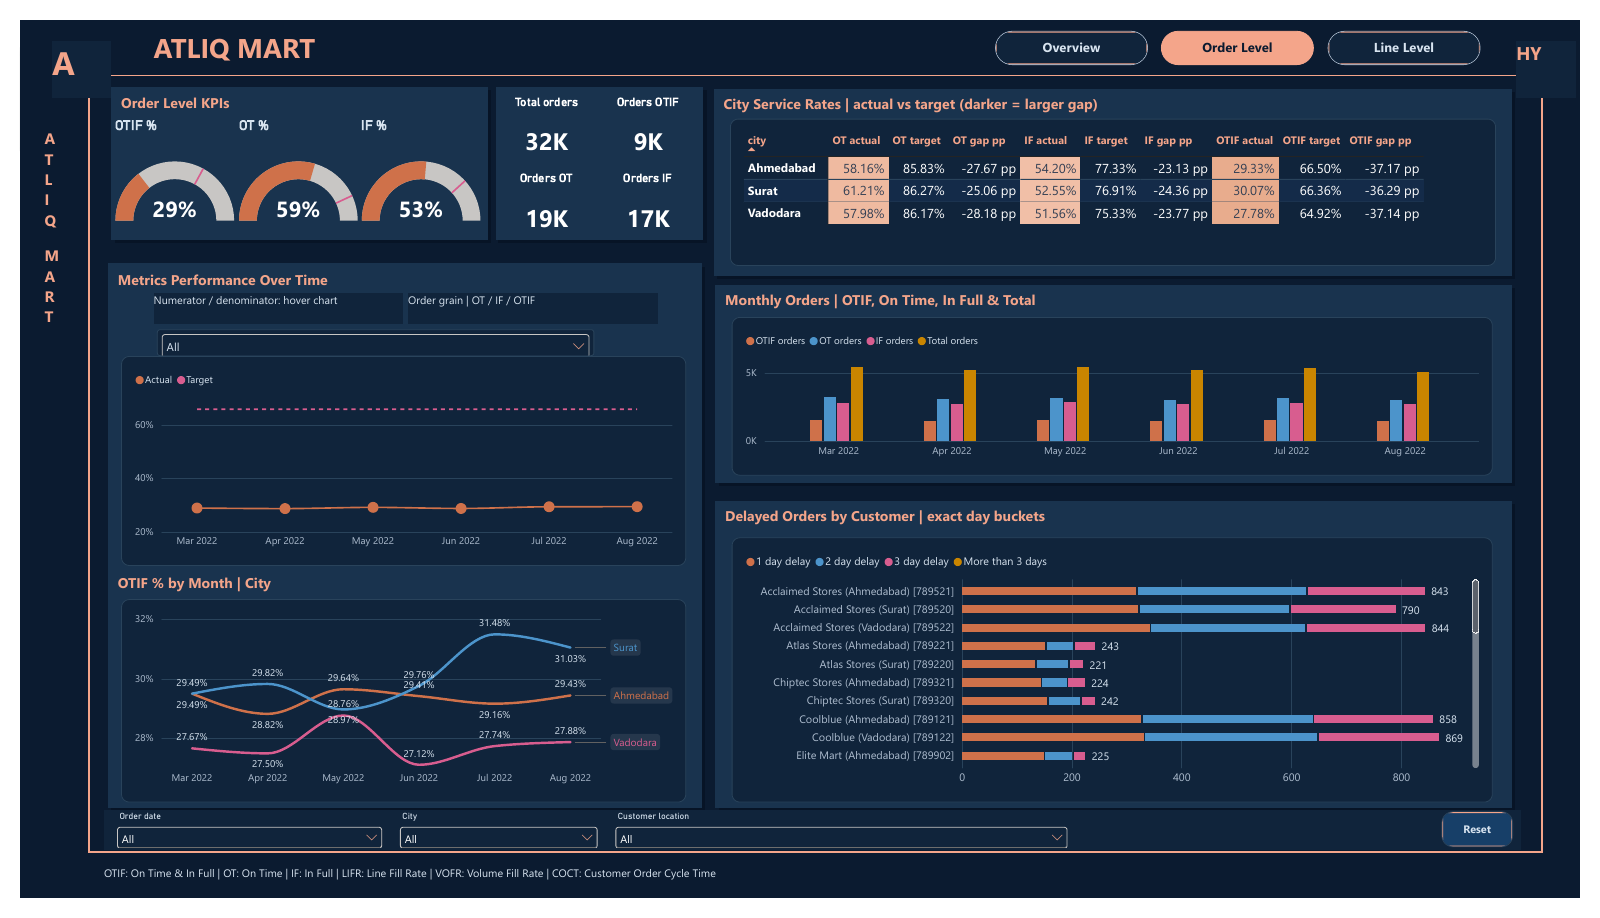

The page's visual inventory and layout, read from the dashboard file:
{"tool":"powerbi","page":{"name":"Order Level","canvas":[1920,1080],"ordinal":1},"visuals":[{"type":"shape","box":[113.3,304,729.6,669.6],"z":0},{"type":"shape","box":[117.1,86.9,462.7,187.9],"z":1000},{"type":"shape","box":[589.4,86.9,255.4,187.9],"z":2000},{"type":"shape","box":[858.2,89.1,981.1,230],"z":3000},{"type":"shape","box":[860.2,329.9,979.2,244.1],"z":4000},{"type":"shape","box":[860.2,595.6,979.2,378],"z":5000},{"type":"shape","box":[109.4,300.2,729.6,669.6],"z":6000},{"type":"shape","box":[113.3,83.2,462.7,187.9],"z":7000},{"type":"shape","box":[585.6,83.2,255.4,187.9],"z":8000},{"type":"shape","box":[854.4,85.3,981.1,230],"z":9000},{"type":"shape","box":[856.3,326.2,979.2,244.1],"z":10000},{"type":"shape","box":[856.3,591.8,979.2,378],"z":11000},{"type":"shape","box":[84.5,68,1789.4,2.4],"z":12000},{"type":"shape","box":[84.5,1022.5,1789.4,2.4],"z":13000},{"type":"shape","box":[84.5,68,2.5,956.9],"z":14000},{"type":"shape","box":[1871.4,68,2.5,956.9],"z":15000},{"type":"shape","box":[103.7,972,1743.4,48.6],"z":16000},{"type":"textbox","box":[165.1,335.9,307.2,37.8],"z":17000},{"type":"textbox","box":[478.1,335.9,307.2,37.8],"z":18000},{"type":"gauge","title":"OTIF %","fields":{"TargetValue":["dim_customers.On Time In Full Target"],"Y":["fact_orders_aggregate.OTIF %"]},"box":[118,121,146,145],"z":19000},{"type":"gauge","title":"IF %","fields":{"TargetValue":["dim_customers.In Full Target"],"Y":["fact_orders_aggregate.IF %"]},"box":[421.4,121,146,145],"z":20000},{"type":"gauge","title":"OT %","fields":{"TargetValue":["dim_customers.On Time Target"],"Y":["fact_orders_aggregate.OT %"]},"box":[269.7,121,146,145],"z":21000},{"type":"card","title":"Orders IF","fields":{"Values":["fact_orders_aggregate.Orders In Full"]},"box":[714.2,187.9,119,82.1],"z":22000},{"type":"card","title":"Orders OT","fields":{"Values":["fact_orders_aggregate.Orders On Time"]},"box":[589.4,187.9,119,82.1],"z":23000},{"type":"card","title":"Orders OTIF","fields":{"Values":["fact_orders_aggregate.Orders OTIF"]},"box":[714.2,94,119,82.1],"z":24000},{"type":"card","title":"Total orders","fields":{"Values":["fact_orders_aggregate.Total Orders"]},"box":[589.4,94,119,82.1],"z":25000},{"type":"lineChart","fields":{"Category":["dim_date.month_label"],"Y":["Metric Selector.Selected Rate","Metric Selector.Selected Target"]},"box":[124.8,413.6,695,258.1],"z":26000},{"type":"lineChart","fields":{"Category":["dim_date.month_label"],"Series":["dim_customers.city"],"Y":["fact_orders_aggregate.OTIF %"]},"box":[124.8,712.8,695,250.6],"z":27000},{"type":"pivotTable","fields":{"Rows":["dim_customers.city"],"Values":["fact_orders_aggregate.OT %","dim_customers.On Time Target","dim_customers.OT Gap pp","fact_orders_aggregate.IF %","dim_customers.In Full Target","dim_customers.IF Gap pp","fact_orders_aggregate.OTIF %","dim_customers.On Time In Full Target","dim_customers.OTIF Gap pp"]},"box":[873.6,122,942.7,181.4],"z":28000},{"type":"clusteredColumnChart","fields":{"Category":["dim_date.month_label"],"Y":["fact_orders_aggregate.Orders OTIF","fact_orders_aggregate.Orders On Time","fact_orders_aggregate.Orders In Full","fact_orders_aggregate.Total Orders"]},"box":[875.5,366.1,937,194.4],"z":29000},{"type":"barChart","fields":{"Category":["dim_customers.location_label"],"Y":["fact_order_lines.Orders Delayed 1 Day","fact_order_lines.Orders Delayed 2 Days","fact_order_lines.Orders Delayed 3 Days","fact_order_lines.Orders Delayed More Than 3 Days"]},"box":[875.5,637.2,937,326.2],"z":30000},{"type":"textbox","box":[40.3,25.9,73,71.3],"z":31000},{"type":"textbox","box":[1841.3,25.9,73,70.2],"z":32000},{"type":"textbox","box":[124.8,89.6,439.7,29.2],"z":34000},{"type":"textbox","box":[121,307.8,706.6,27],"z":35000},{"type":"textbox","box":[121,681.5,695,27],"z":36000},{"type":"textbox","box":[865.9,91.8,958.1,29.2],"z":37000},{"type":"textbox","box":[867.8,332.6,956.2,29.2],"z":38000},{"type":"textbox","box":[867.8,598.3,956.2,29.2],"z":39000},{"type":"textbox","box":[103.7,1040,1724.2,25.9],"z":40000},{"type":"textbox","box":[165.1,11.9,307.2,51.8],"z":41000},{"type":"textbox","box":[30.7,133.9,46.1,321.8],"z":42000},{"type":"slicer","fields":{"Values":["Metric Selector.metric_label"]},"box":[169,381.2,537.6,32.4],"z":43000},{"type":"slicer","fields":{"Values":["dim_customers.city"]},"box":[462.7,974.2,253.4,44.3],"z":44000},{"type":"slicer","fields":{"Values":["dim_customers.location_label"]},"box":[727.7,974.2,566.4,44.3],"z":45000},{"type":"slicer","fields":{"Values":["dim_date.date"]},"box":[115.2,974.2,336,44.3],"z":46000},{"type":"actionButton","box":[1609,14,188.2,42.1],"z":47000},{"type":"actionButton","box":[1403.5,14,188.2,42.1],"z":48000},{"type":"actionButton","box":[1200,14,188.2,42.1],"z":49000},{"type":"actionButton","box":[1749.1,974.2,88.3,44.3],"z":50000}]}

Visuals, with their boxes in screenshot pixels (x1, y1, x2, y2), scaled from the page's 1920x1080 canvas onto the 1600x918 screenshot:
shape: (left=94, top=258, right=702, bottom=828)
shape: (left=98, top=74, right=483, bottom=234)
shape: (left=491, top=74, right=704, bottom=234)
shape: (left=715, top=76, right=1533, bottom=271)
shape: (left=717, top=280, right=1533, bottom=488)
shape: (left=717, top=506, right=1533, bottom=828)
shape: (left=91, top=255, right=699, bottom=824)
shape: (left=94, top=71, right=480, bottom=230)
shape: (left=488, top=71, right=701, bottom=230)
shape: (left=712, top=73, right=1530, bottom=268)
shape: (left=714, top=277, right=1530, bottom=485)
shape: (left=714, top=503, right=1530, bottom=824)
shape: (left=70, top=58, right=1562, bottom=60)
shape: (left=70, top=869, right=1562, bottom=871)
shape: (left=70, top=58, right=72, bottom=871)
shape: (left=1560, top=58, right=1562, bottom=871)
shape: (left=86, top=826, right=1539, bottom=868)
textbox: (left=138, top=286, right=394, bottom=318)
textbox: (left=398, top=286, right=654, bottom=318)
"OTIF %" gauge: (left=98, top=103, right=220, bottom=226)
"IF %" gauge: (left=351, top=103, right=473, bottom=226)
"OT %" gauge: (left=225, top=103, right=346, bottom=226)
"Orders IF" card: (left=595, top=160, right=694, bottom=230)
"Orders OT" card: (left=491, top=160, right=590, bottom=230)
"Orders OTIF" card: (left=595, top=80, right=694, bottom=150)
"Total orders" card: (left=491, top=80, right=590, bottom=150)
lineChart - dim_date.month_label x Metric Selector.Selected Rate: (left=104, top=352, right=683, bottom=571)
lineChart - dim_date.month_label x dim_customers.city: (left=104, top=606, right=683, bottom=819)
pivotTable - dim_customers.city x fact_orders_aggregate.OT %: (left=728, top=104, right=1514, bottom=258)
clusteredColumnChart - dim_date.month_label x fact_orders_aggregate.Orders OTIF: (left=730, top=311, right=1510, bottom=476)
barChart - dim_customers.location_label x fact_order_lines.Orders Delayed 1 Day: (left=730, top=542, right=1510, bottom=819)
textbox: (left=34, top=22, right=94, bottom=83)
textbox: (left=1534, top=22, right=1595, bottom=82)
textbox: (left=104, top=76, right=470, bottom=101)
textbox: (left=101, top=262, right=690, bottom=285)
textbox: (left=101, top=579, right=680, bottom=602)
textbox: (left=722, top=78, right=1520, bottom=103)
textbox: (left=723, top=283, right=1520, bottom=308)
textbox: (left=723, top=509, right=1520, bottom=533)
textbox: (left=86, top=884, right=1523, bottom=906)
textbox: (left=138, top=10, right=394, bottom=54)
textbox: (left=26, top=114, right=64, bottom=387)
slicer - Metric Selector.metric_label: (left=141, top=324, right=589, bottom=352)
slicer - dim_customers.city: (left=386, top=828, right=597, bottom=866)
slicer - dim_customers.location_label: (left=606, top=828, right=1078, bottom=866)
slicer - dim_date.date: (left=96, top=828, right=376, bottom=866)
actionButton: (left=1341, top=12, right=1498, bottom=48)
actionButton: (left=1170, top=12, right=1326, bottom=48)
actionButton: (left=1000, top=12, right=1157, bottom=48)
actionButton: (left=1458, top=828, right=1531, bottom=866)
